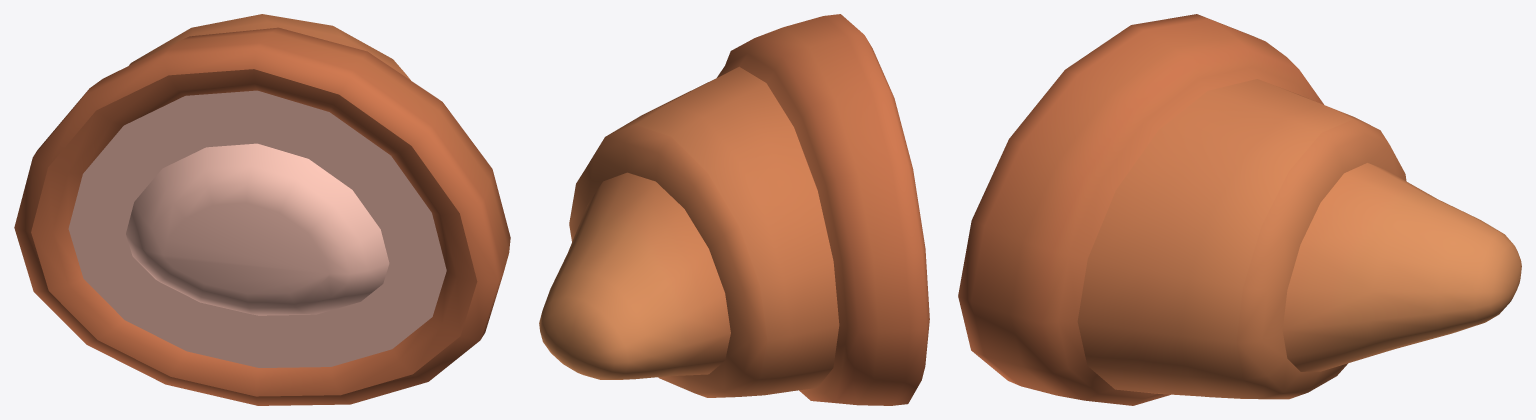
File: Croissant_Slice_V1_02.fbx
The picture shows the model from 3 angles, left to right: view 1: azimuth 30°, elevation 25°; view 2: azimuth 150°, elevation 25°; view 3: azimuth 270°, elevation 25°; orthographic projection. The views are drawn at different scales.
Parts seen in each view (by area): view 1: Croissant_Slice_V1_02; view 2: Croissant_Slice_V1_02; view 3: Croissant_Slice_V1_02.
Part boxes in pixels (left/top/right/bottom): Croissant_Slice_V1_02: left=14, top=14, right=510, bottom=405; Croissant_Slice_V1_02: left=539, top=14, right=929, bottom=405; Croissant_Slice_V1_02: left=958, top=14, right=1521, bottom=405.
Bounding box in the file's own units: 36.23 × 30.87 × 45.58.
